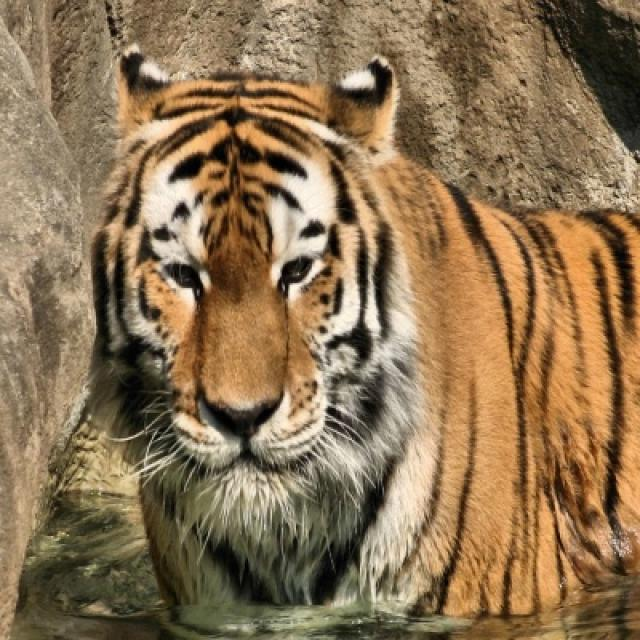Tiger: (85, 44, 638, 634)
